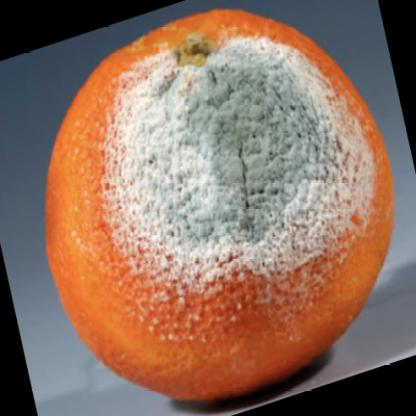rotten: (47, 10, 394, 399)
